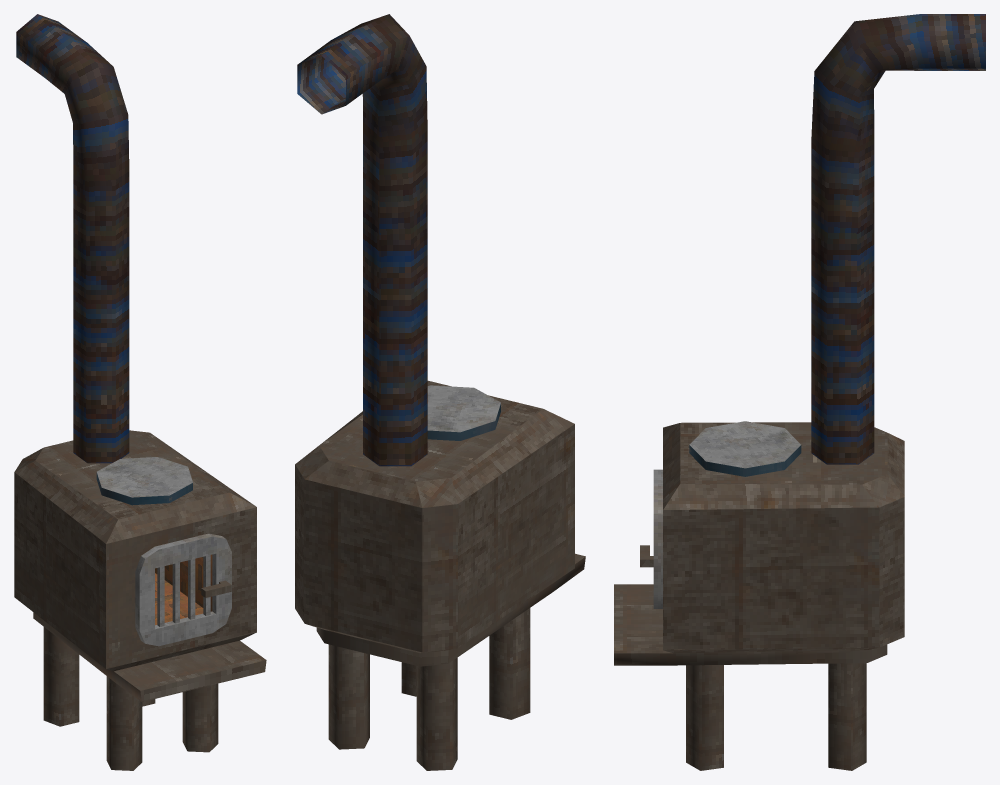
File: Furace.gltf
3 views of the same model, side by side, from view 1: azimuth 30°, elevation 25°; view 2: azimuth 150°, elevation 25°; view 3: azimuth 270°, elevation 25° (orthographic). The views are drawn at different scales.
Visible parts, largest first — view 1: FuraceBase-col, FuraceDoor-convcol; view 2: FuraceBase-col; view 3: FuraceBase-col, FuraceDoor-convcol.
Part boxes in pixels (bbox=[...]): FuraceBase-col: bbox=[14, 14, 266, 770]; FuraceDoor-convcol: bbox=[135, 533, 231, 646]; FuraceBase-col: bbox=[295, 14, 585, 770]; FuraceBase-col: bbox=[614, 14, 985, 770]; FuraceDoor-convcol: bbox=[640, 469, 662, 608].
Bounding box in the file's own units: 0.5818 × 2.39 × 1.11.
1 material, 1 textured.
